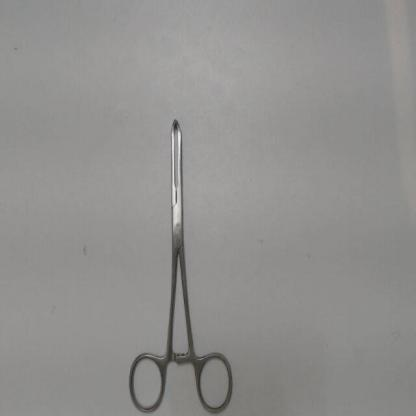Allis Tissue Forceps: (122, 108, 236, 415)
